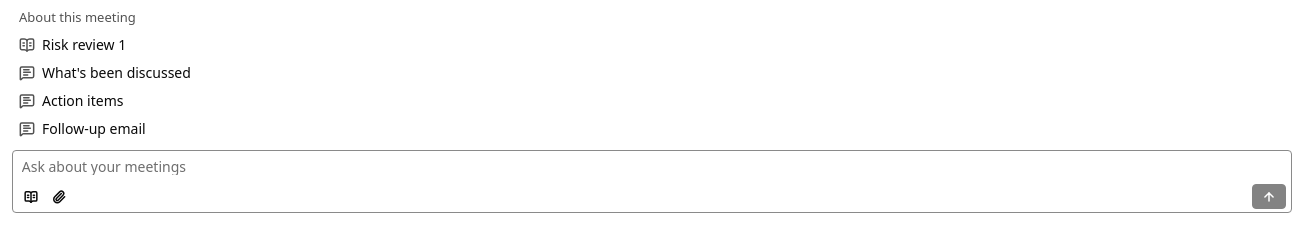
Scenario: the / menu lists saved prompts first › the slash filter finds a saved prompt by its name
Check: the list with test id "ListMeetingChatStarters" shows "Risk review 1", box top-left (12, 30), bottom-right (1292, 58)
In the text box with test id "TxtMeetingChat": (652, 168) top-left (18, 152), bottom-right (1286, 184), type "/risk rev"
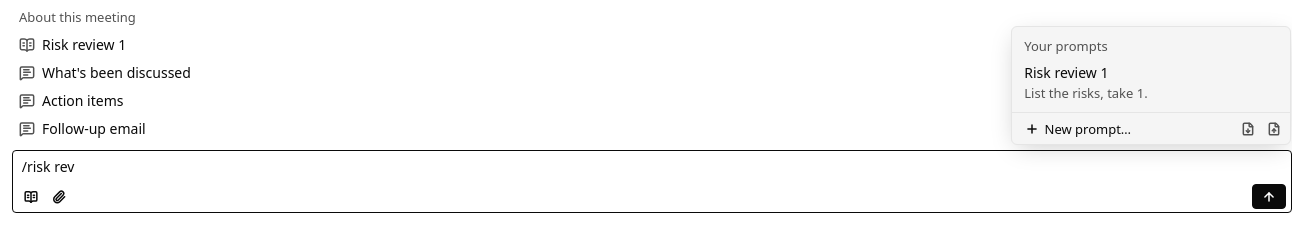
Check: the number of options is 1, box top-left (1024, 63), bottom-right (1148, 102)
Check: the option shows "Risk review 1", box top-left (1024, 63), bottom-right (1148, 102)
